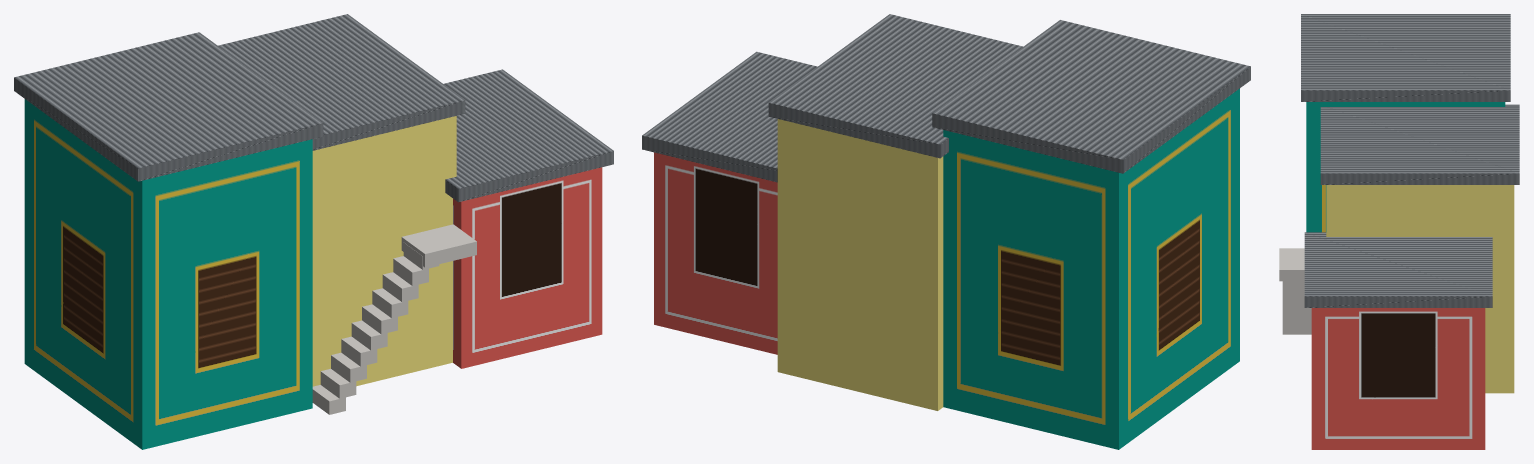
Rendered from koliwada_houses.glb.
3 views of the same model, side by side, from view 1: azimuth 30°, elevation 25°; view 2: azimuth 150°, elevation 25°; view 3: azimuth 270°, elevation 25° (orthographic). The views are drawn at different scales.
Visible parts, largest first — view 1: Koli_House_Cyan, Koli_Tin_Roofs, Koli_House_Yellow, Koli_House_Coral, Koli_Stairs; view 2: Koli_House_Cyan, Koli_Tin_Roofs, Koli_House_Yellow, Koli_House_Coral; view 3: Koli_Tin_Roofs, Koli_House_Coral, Koli_House_Yellow, Koli_House_Cyan, Koli_Stairs.
Boxes of the visible parts, box(x1,y1,x2,y2) form: Koli_House_Cyan: box(24, 99, 312, 449); Koli_Tin_Roofs: box(14, 14, 613, 202); Koli_House_Yellow: box(312, 116, 456, 386); Koli_House_Coral: box(453, 167, 602, 368); Koli_Stairs: box(312, 224, 476, 414); Koli_House_Cyan: box(943, 88, 1239, 449); Koli_Tin_Roofs: box(642, 14, 1250, 182); Koli_House_Yellow: box(777, 119, 943, 410); Koli_House_Coral: box(654, 152, 777, 354); Koli_Tin_Roofs: box(1301, 14, 1519, 307); Koli_House_Coral: box(1311, 308, 1485, 449); Koli_House_Yellow: box(1326, 185, 1514, 393); Koli_House_Cyan: box(1306, 102, 1505, 232); Koli_Stairs: box(1279, 248, 1311, 334).
Bounding box in the file's own units: 12.9 × 7.38 × 6.65.
5 materials, 3 textured.
